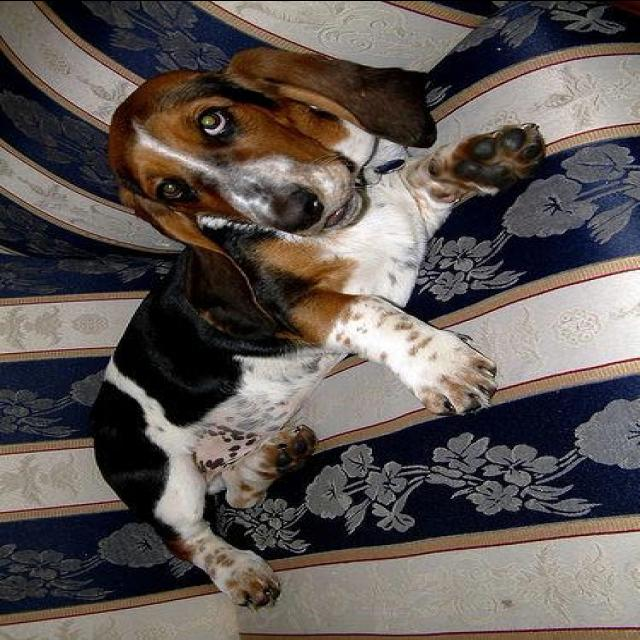basset: (103, 46, 546, 609)
